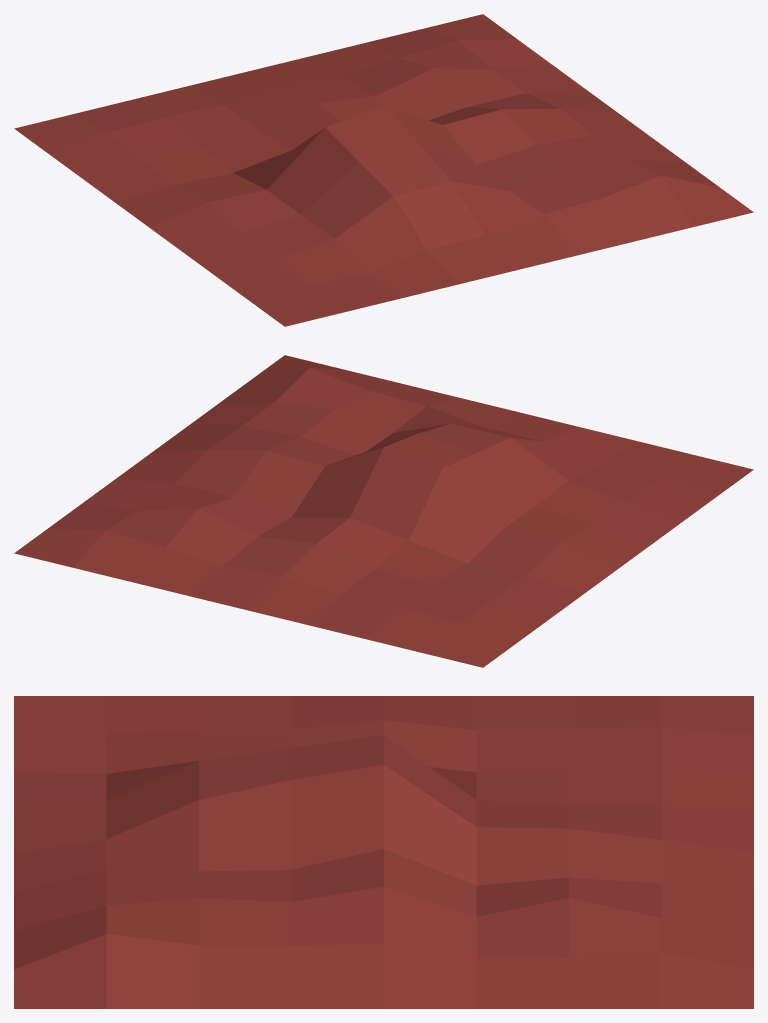
File: Terrain_4_Red.fbx
The picture shows the model from 3 angles, top to bottom: view 1: azimuth 30°, elevation 25°; view 2: azimuth 150°, elevation 25°; view 3: azimuth 270°, elevation 25°; orthographic projection. The views are drawn at different scales.
Visible parts, largest first — view 1: Terrain_4_Red; view 2: Terrain_4_Red; view 3: Terrain_4_Red.
Part boxes in pixels (x1,y1,x2,y2): Terrain_4_Red: (14, 14, 753, 326); Terrain_4_Red: (14, 355, 753, 667); Terrain_4_Red: (14, 696, 753, 1008).
Size of the model in its own units: 3000 by 393 by 3000.
